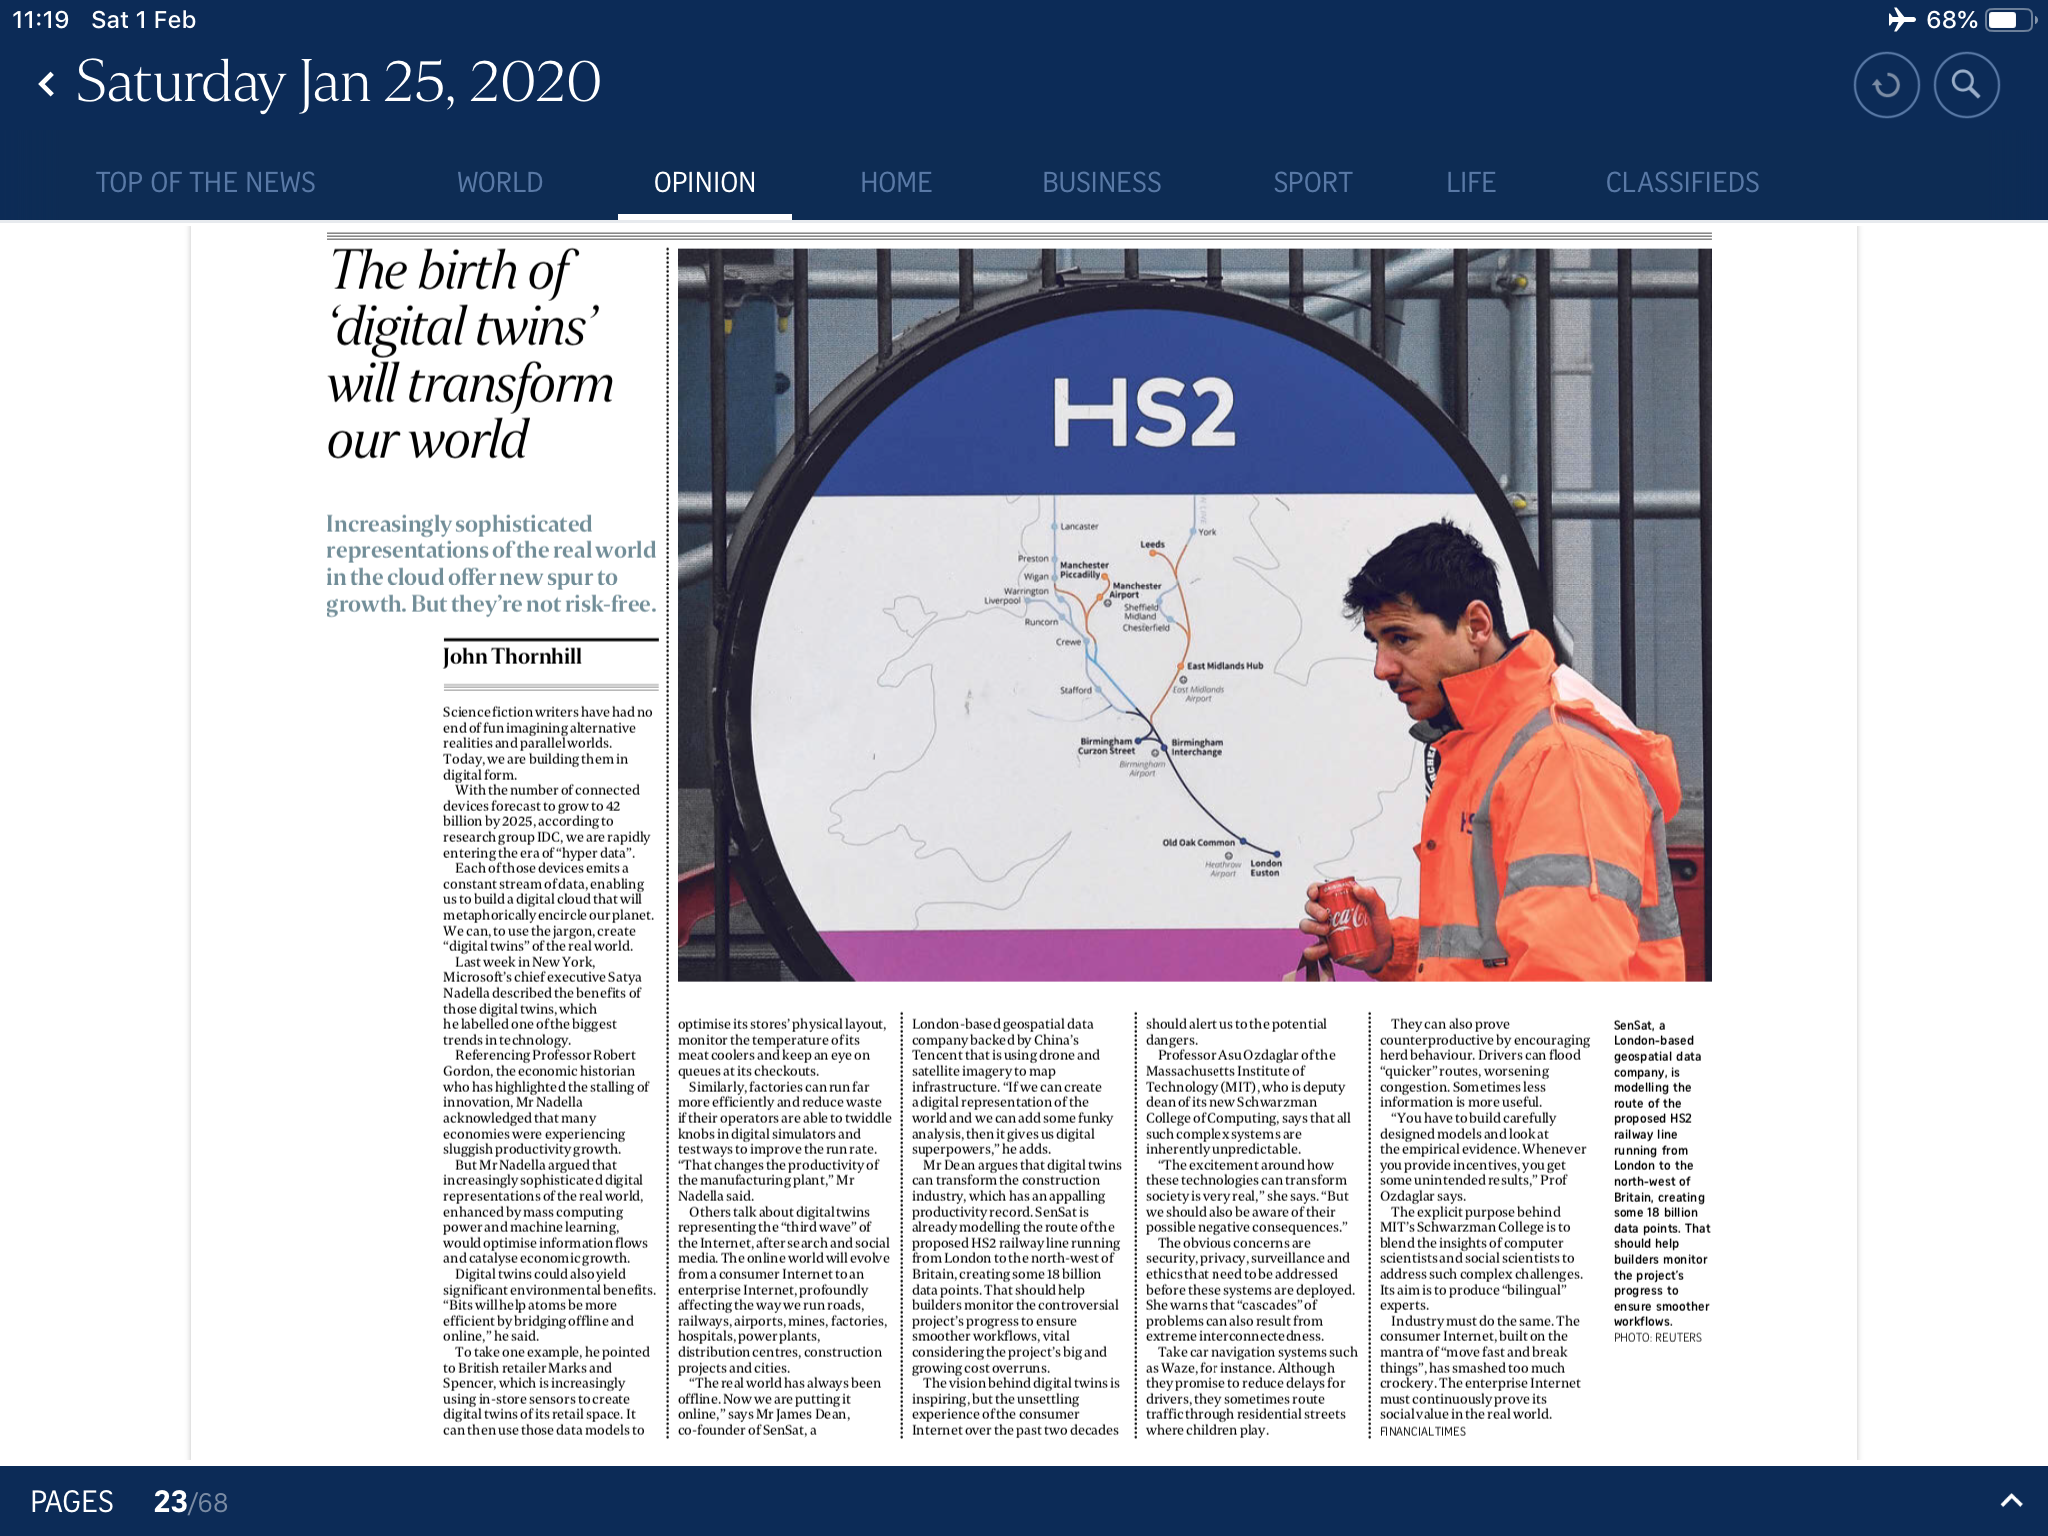Byline: (440, 647, 584, 673)
Headline: (331, 244, 614, 463)
Illustration: (1614, 1016, 1714, 1346)
Image: (676, 252, 1709, 978)
Text: (440, 703, 651, 1441), (677, 1016, 889, 1438), (911, 1013, 1121, 1434), (1147, 1013, 1356, 1434), (1379, 1016, 1588, 1438)
